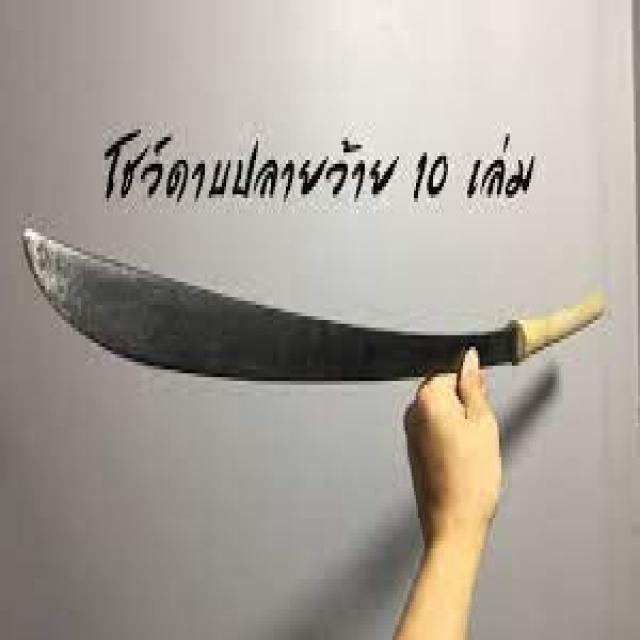long sword: (21, 224, 614, 390)
